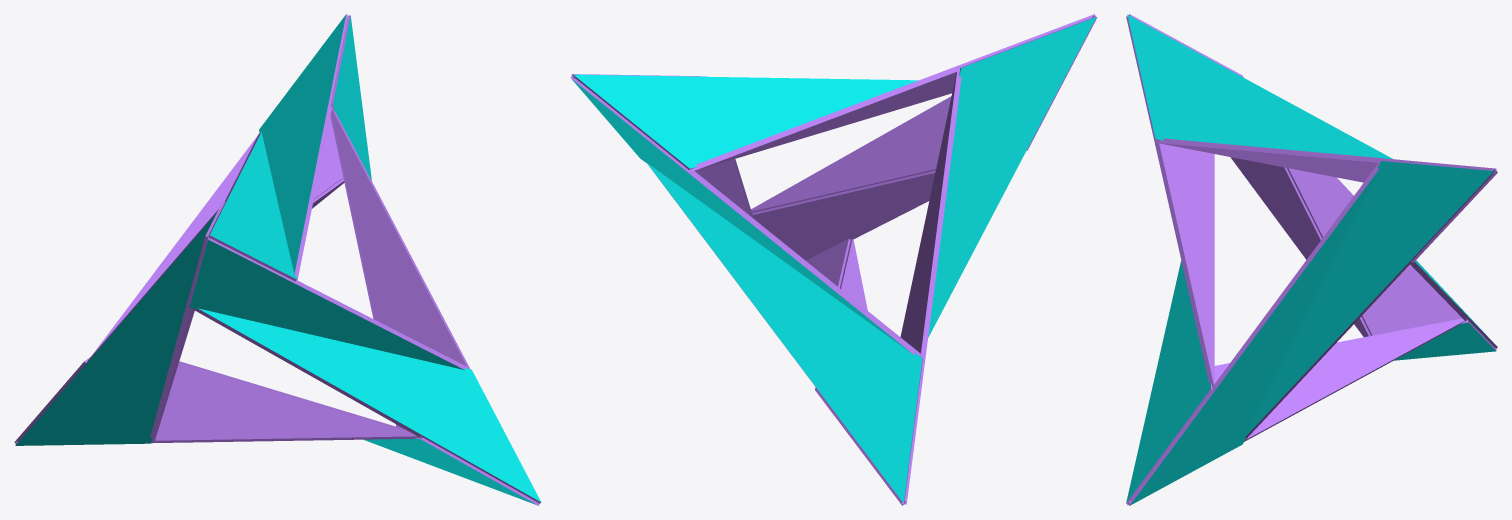
Rendered from Tetrahedron1.glb.
3 renders of one model, left to right at view 1: azimuth 30°, elevation 25°; view 2: azimuth 150°, elevation 25°; view 3: azimuth 270°, elevation 25°, orthographic. The views are drawn at different scales.
Visible parts, largest first — view 1: root; view 2: root; view 3: root.
Boxes of the visible parts, bbox=[...] form: root: bbox=[14, 14, 541, 505]; root: bbox=[570, 14, 1097, 505]; root: bbox=[1126, 14, 1497, 505].
Bounding box in the file's own units: 0.7144 × 0.7144 × 0.7144.
